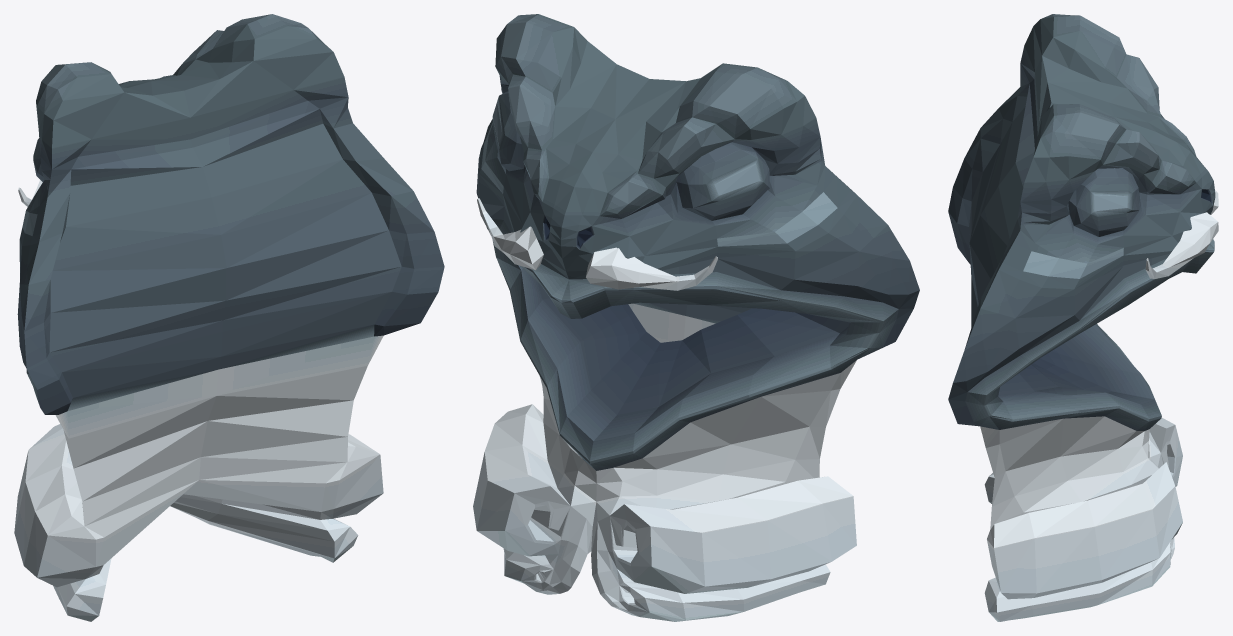
Rendered from CharSkyKid_Mask_AP11Frog_01.glb.
The picture shows the model from 3 angles, left to right: view 1: azimuth 30°, elevation 25°; view 2: azimuth 150°, elevation 25°; view 3: azimuth 270°, elevation 25°; orthographic projection. The views are drawn at different scales.
Visible parts, largest first — view 1: CharSkyKid_Mask_AP11Frog_01; view 2: CharSkyKid_Mask_AP11Frog_01; view 3: CharSkyKid_Mask_AP11Frog_01.
Part boxes in pixels (x1,y1,x2,y2): CharSkyKid_Mask_AP11Frog_01: (14,14,444,621); CharSkyKid_Mask_AP11Frog_01: (473,14,919,621); CharSkyKid_Mask_AP11Frog_01: (948,14,1218,621).
Size of the model in its own units: 3.01 by 3.59 by 1.76.
1 material, 1 textured.
